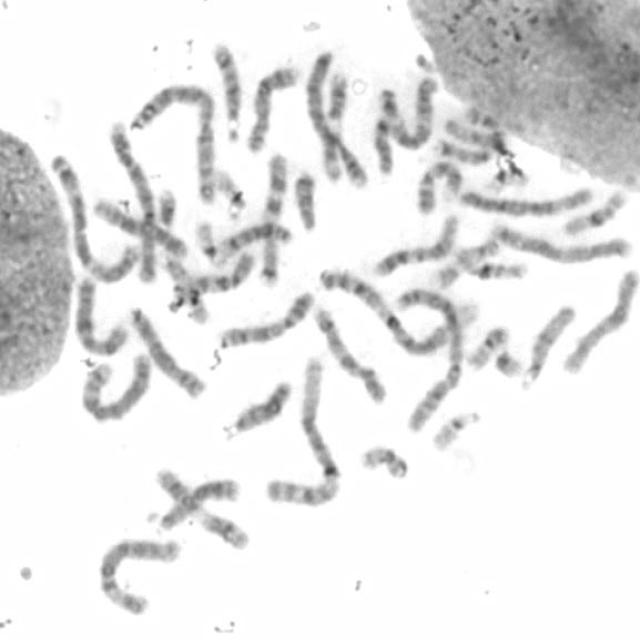A1: (316, 264, 480, 359), (265, 354, 338, 512)
A2: (128, 83, 216, 208), (392, 286, 464, 432)
A3: (50, 150, 142, 285), (378, 75, 439, 150)
B4: (303, 48, 370, 191), (109, 119, 160, 284)
B5: (490, 219, 634, 263), (78, 352, 150, 425)
C10: (307, 304, 392, 406), (172, 249, 258, 300)
C11: (151, 464, 254, 554), (321, 72, 348, 184)
C12: (368, 212, 463, 280), (91, 193, 189, 258)
C6: (98, 537, 185, 618), (459, 184, 594, 216)
C7: (435, 102, 507, 168), (259, 149, 286, 287)
C8: (126, 305, 208, 401), (246, 64, 301, 154)
C9: (215, 288, 318, 349), (414, 158, 464, 220)
D13: (146, 475, 241, 532), (221, 376, 293, 441)
D14: (212, 41, 241, 143), (217, 220, 293, 258)
D15: (519, 302, 579, 392), (441, 114, 516, 159)
E16: (562, 186, 629, 235), (454, 244, 529, 281)
E17: (161, 248, 212, 326), (428, 237, 501, 290)
E18: (370, 116, 394, 176), (294, 170, 317, 230)
F19: (195, 217, 232, 269), (483, 167, 532, 197)
F20: (358, 443, 411, 483), (466, 323, 510, 371)
G21: (488, 344, 525, 379), (155, 188, 179, 230)
G22: (430, 406, 485, 453), (212, 165, 247, 218)
X: (558, 266, 640, 379), (72, 274, 130, 358)
